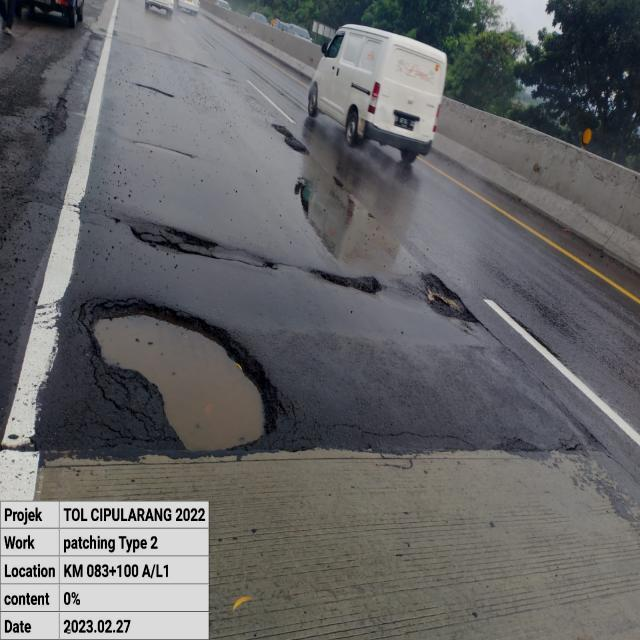Buraco: (73, 295, 293, 455), (270, 122, 433, 278), (126, 220, 222, 260), (419, 272, 482, 324), (308, 268, 384, 295), (39, 95, 71, 145), (129, 139, 196, 159), (134, 81, 176, 99), (260, 259, 278, 272)
